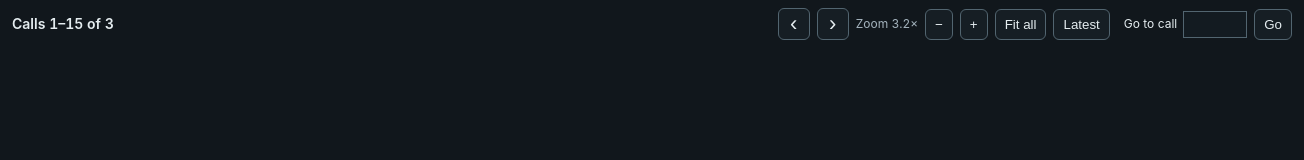
Test: ContextRiverNavigation › places the jump beside zoom controls and cancels editing without navigating
Type "5" into the number field named "Call number" at (1215, 24), box x1=1183 y1=10 x2=1247 y2=38
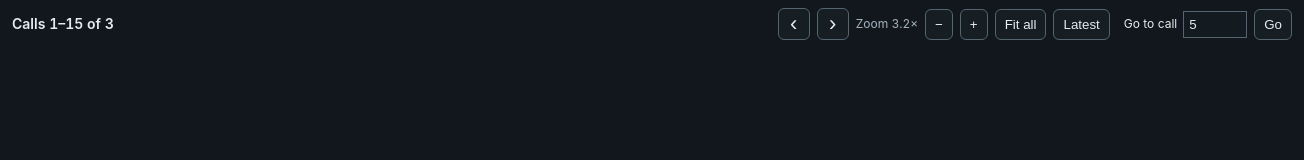
Click the button "Go" at (1273, 24), box x1=1254 y1=8 x2=1292 y2=40
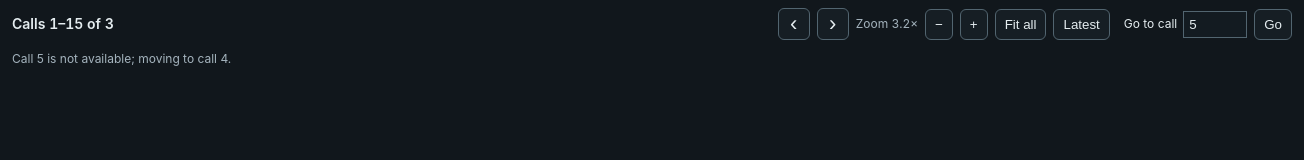
Check: the message shows "moving to call 4", box x1=12 y1=51 x2=231 y2=66
Press Escape in the number field named "Call number", box x1=1183 y1=10 x2=1247 y2=38
Check: the message shows "moving to call 4", box x1=12 y1=51 x2=231 y2=66
Press Escape in the number field named "Call number", box x1=1183 y1=10 x2=1247 y2=38
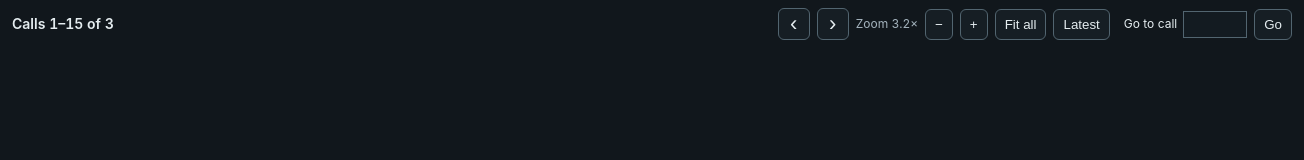
Check: the number field named "Call number" is not empty, box x1=1183 y1=10 x2=1247 y2=38
Check: the message "Call 5 is not available; moving to call 4." is gone
